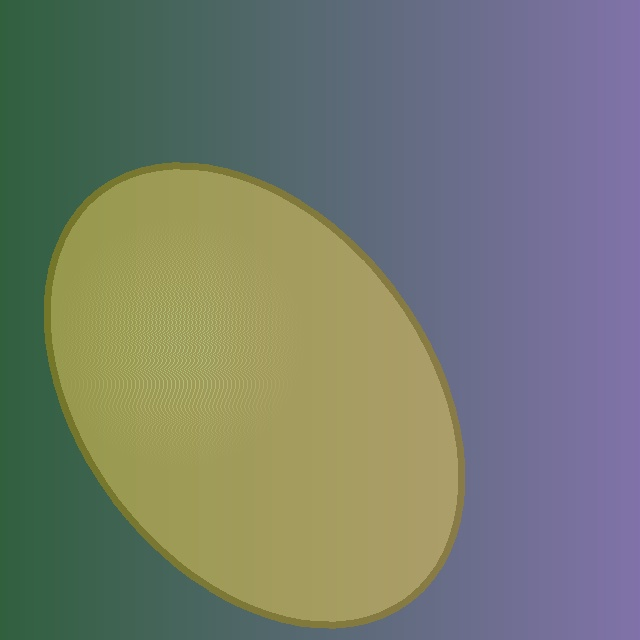lens: (47, 166, 461, 624)
